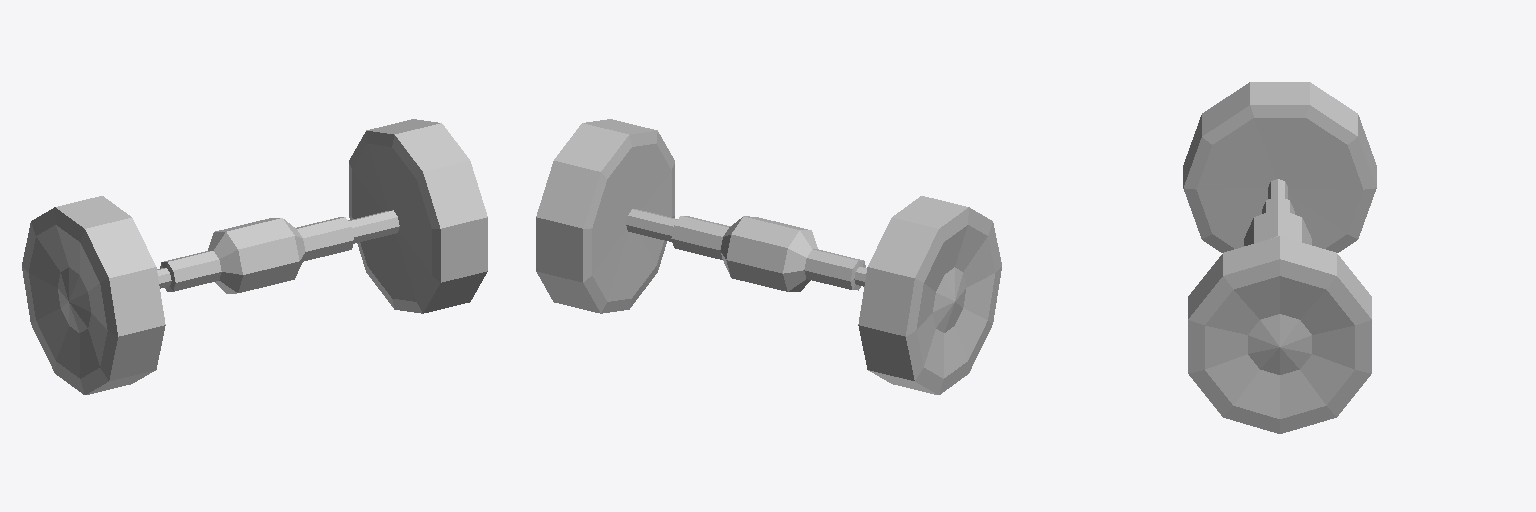
The model's file is back_wheel.obj.
The picture shows the model from 3 angles: view 1: azimuth 30°, elevation 25°; view 2: azimuth 150°, elevation 25°; view 3: azimuth 270°, elevation 25°; orthographic projection.
Bounding box in the file's own units: 2.33 × 1.04 × 1.04.